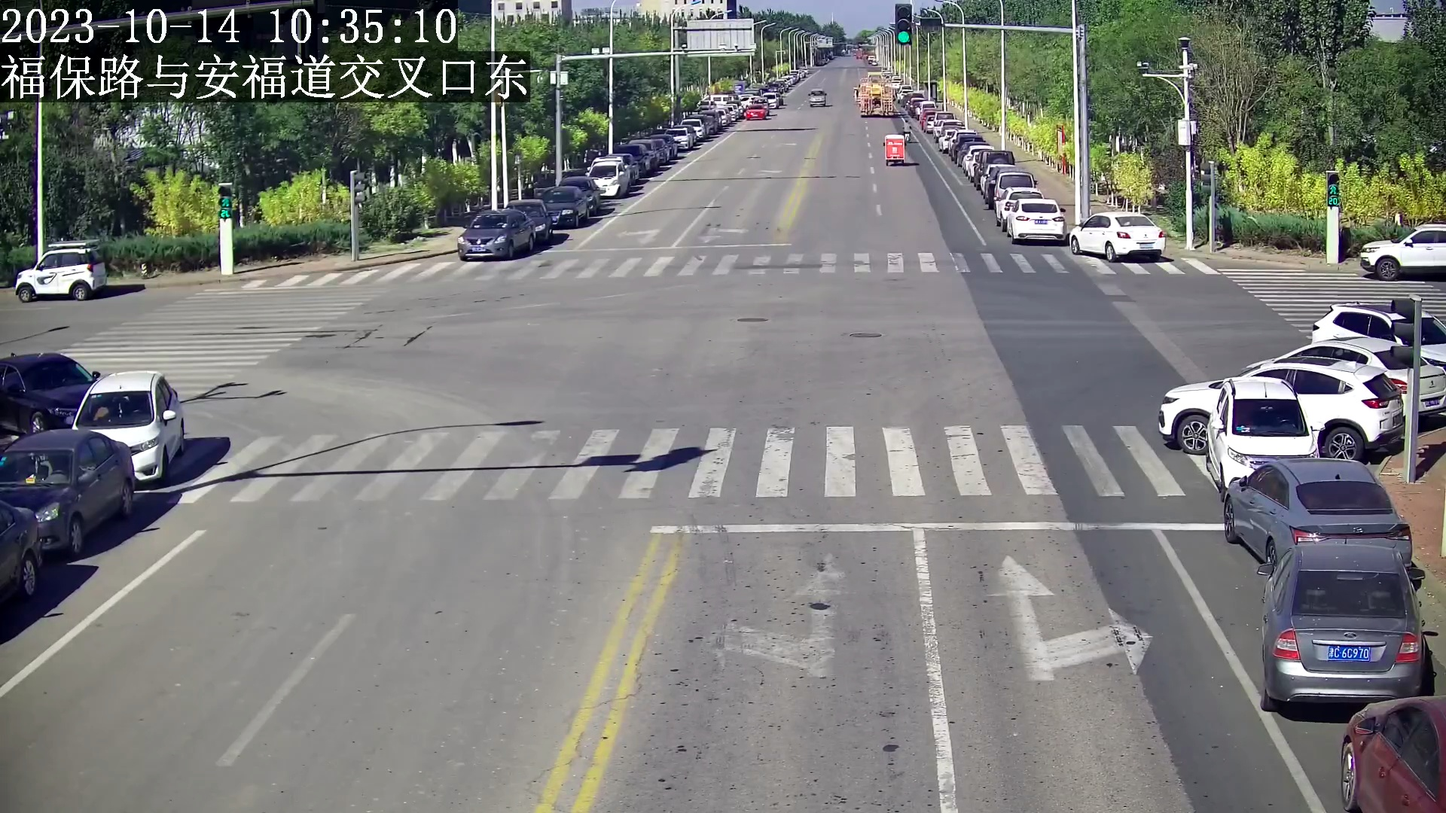vehicle: (1255, 545, 1432, 700), (1157, 355, 1403, 454), (1222, 455, 1414, 564), (0, 428, 137, 557), (1338, 696, 1446, 811), (76, 370, 184, 481), (1208, 377, 1322, 473), (1, 350, 99, 428), (14, 240, 110, 299), (1067, 208, 1167, 262), (1360, 223, 1446, 279), (457, 208, 532, 258), (1007, 196, 1065, 241), (883, 134, 904, 165)
